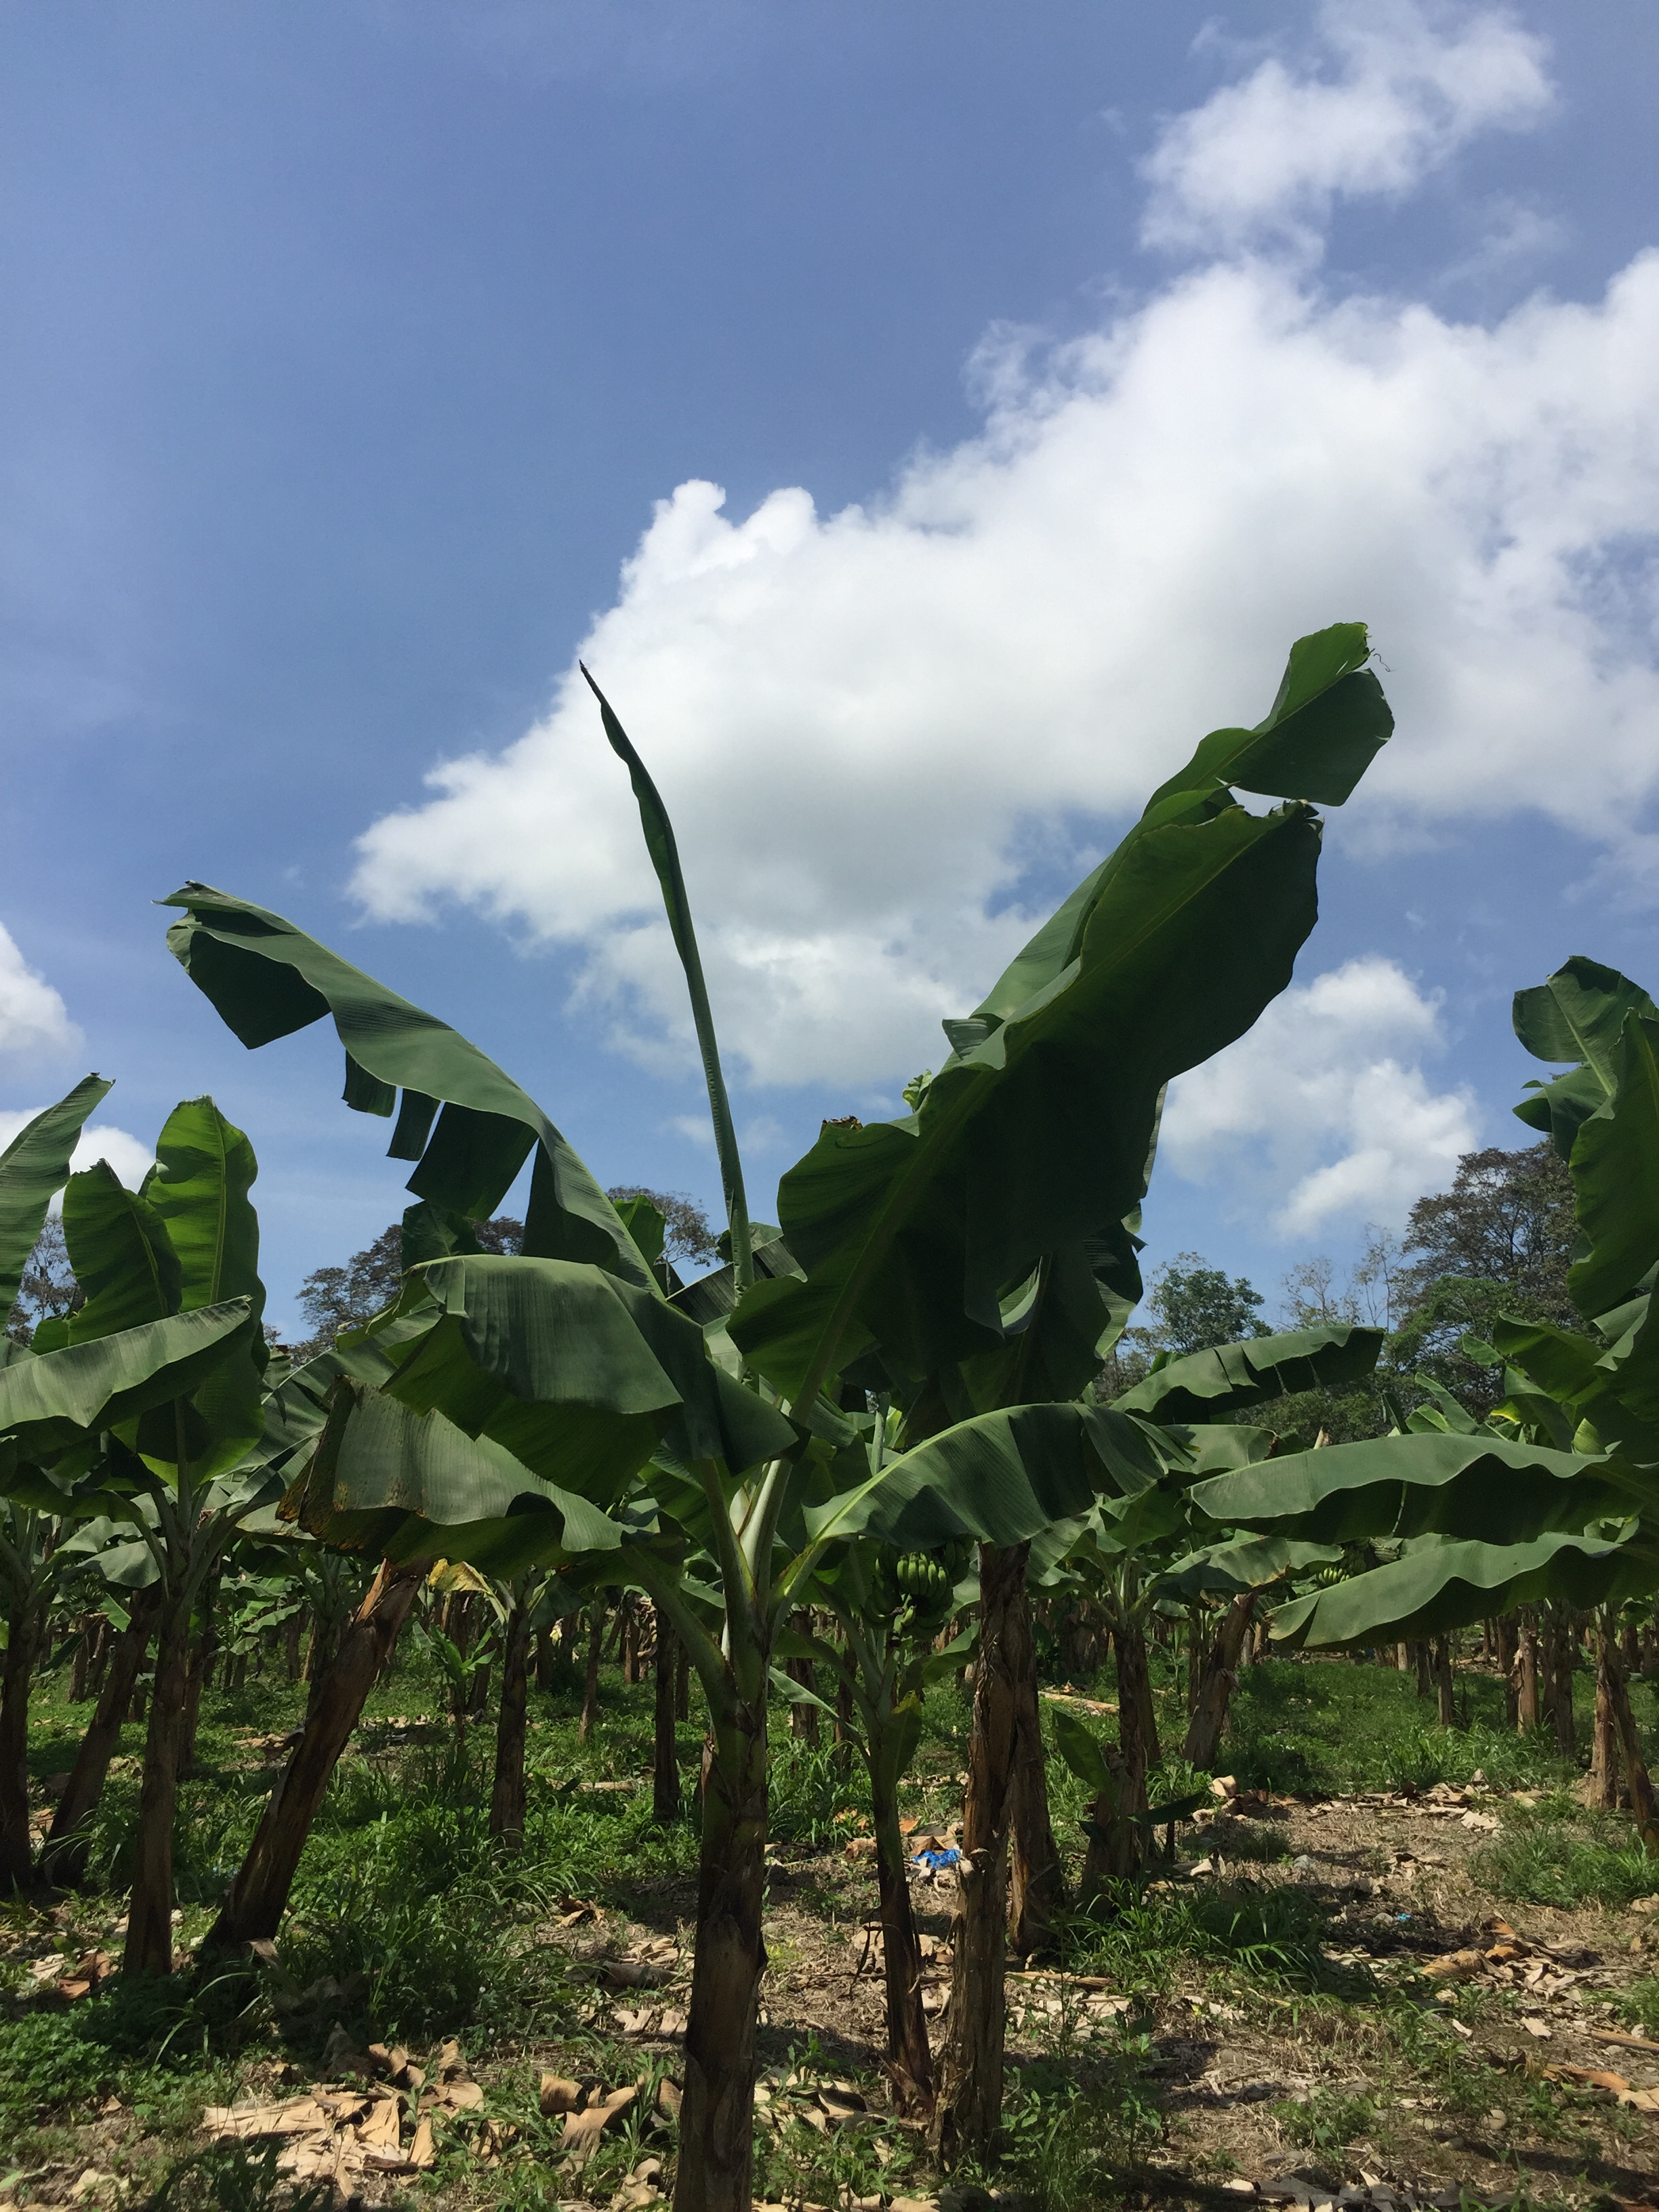candleleafs: (577, 662, 753, 1308)
